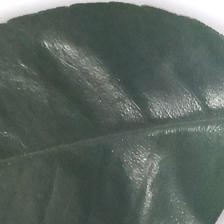healthy: (3, 20, 224, 224)
